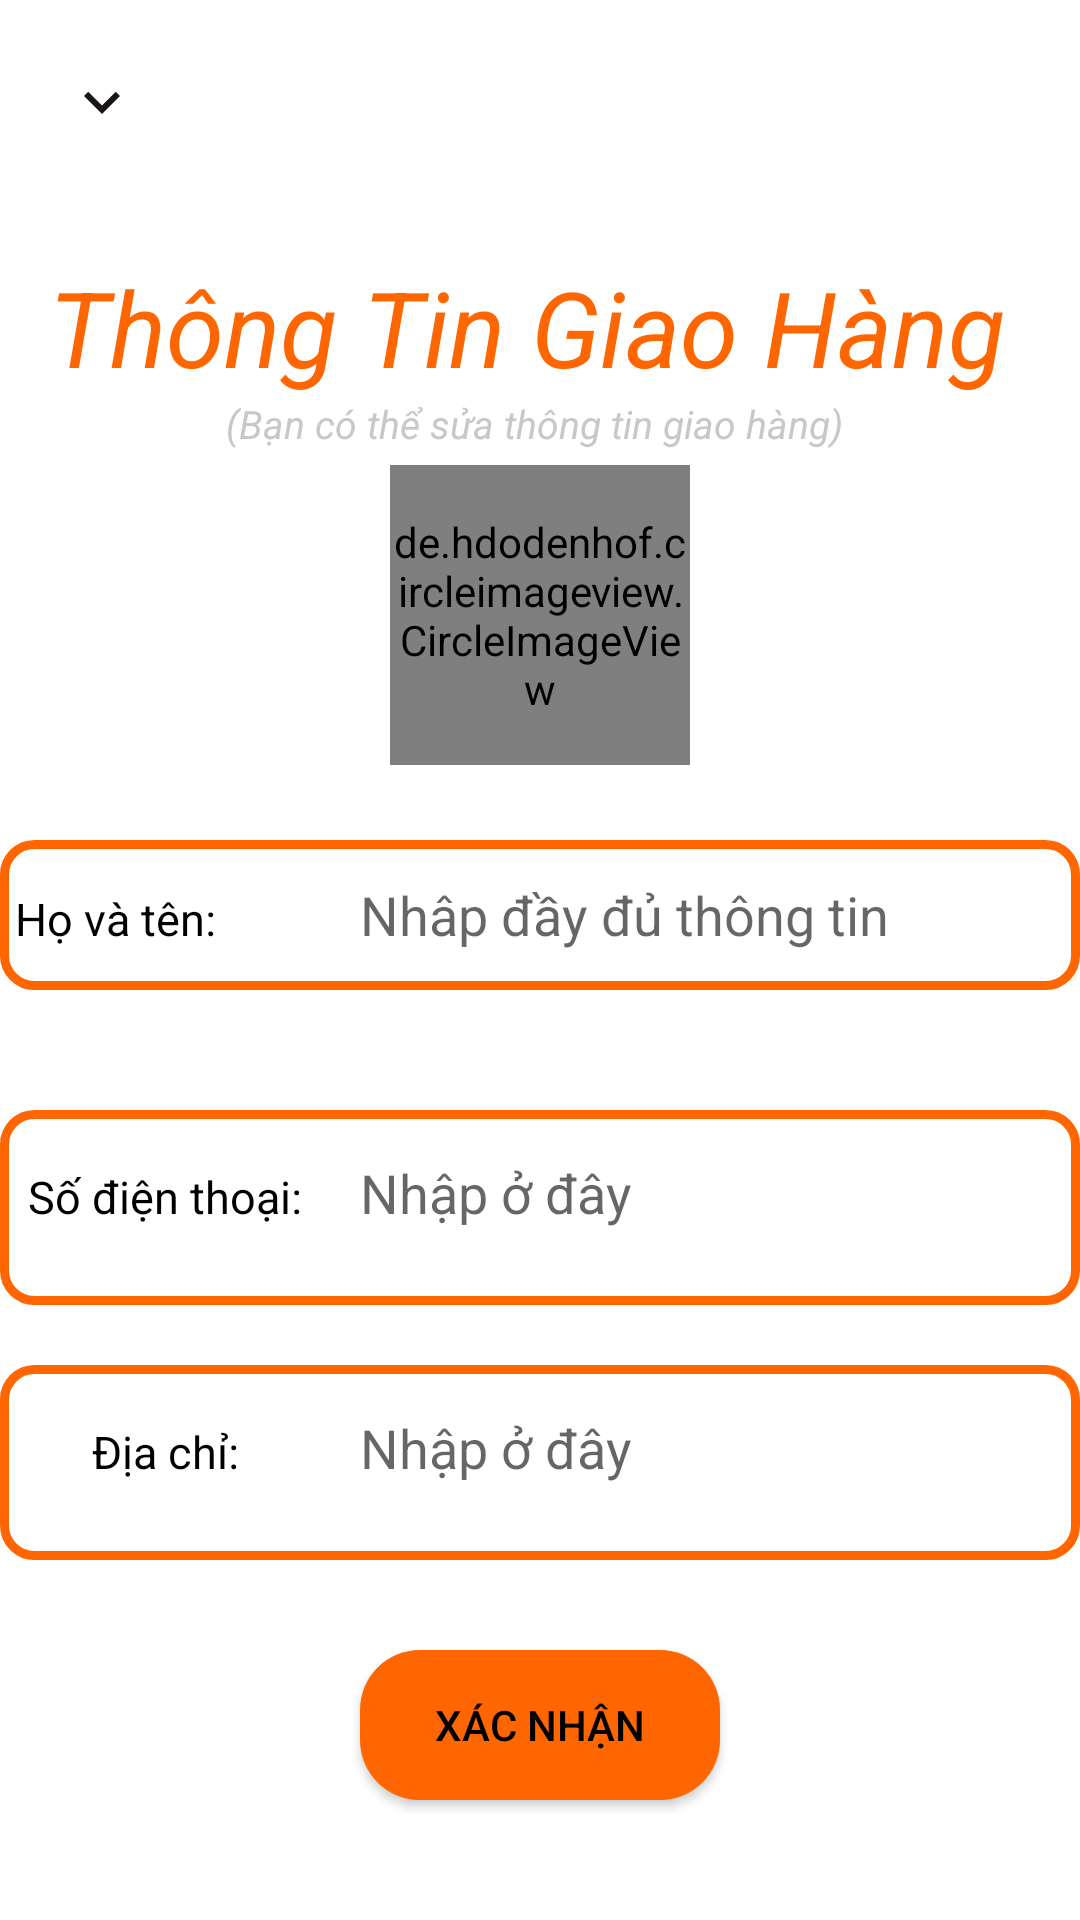

Named icons in this screenshot (1080*1920) and their bounding boxes, (x1, y1, x2, y2):
expand more: (84, 92, 120, 114)
